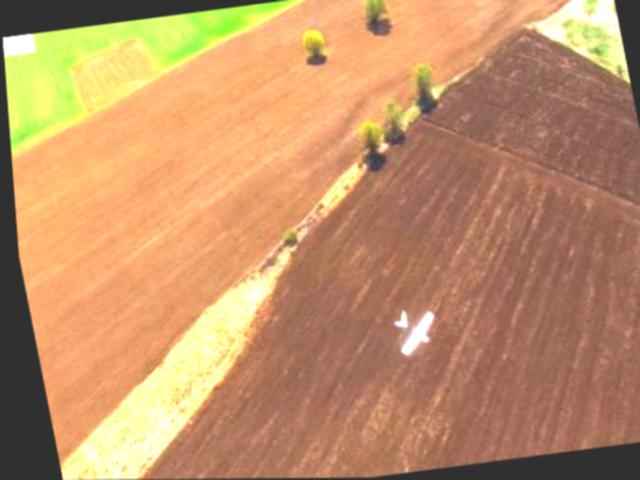uav: (376, 303, 441, 364)
